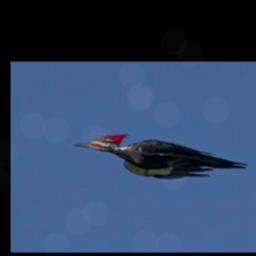Woodpecker: (73, 133, 248, 178)
